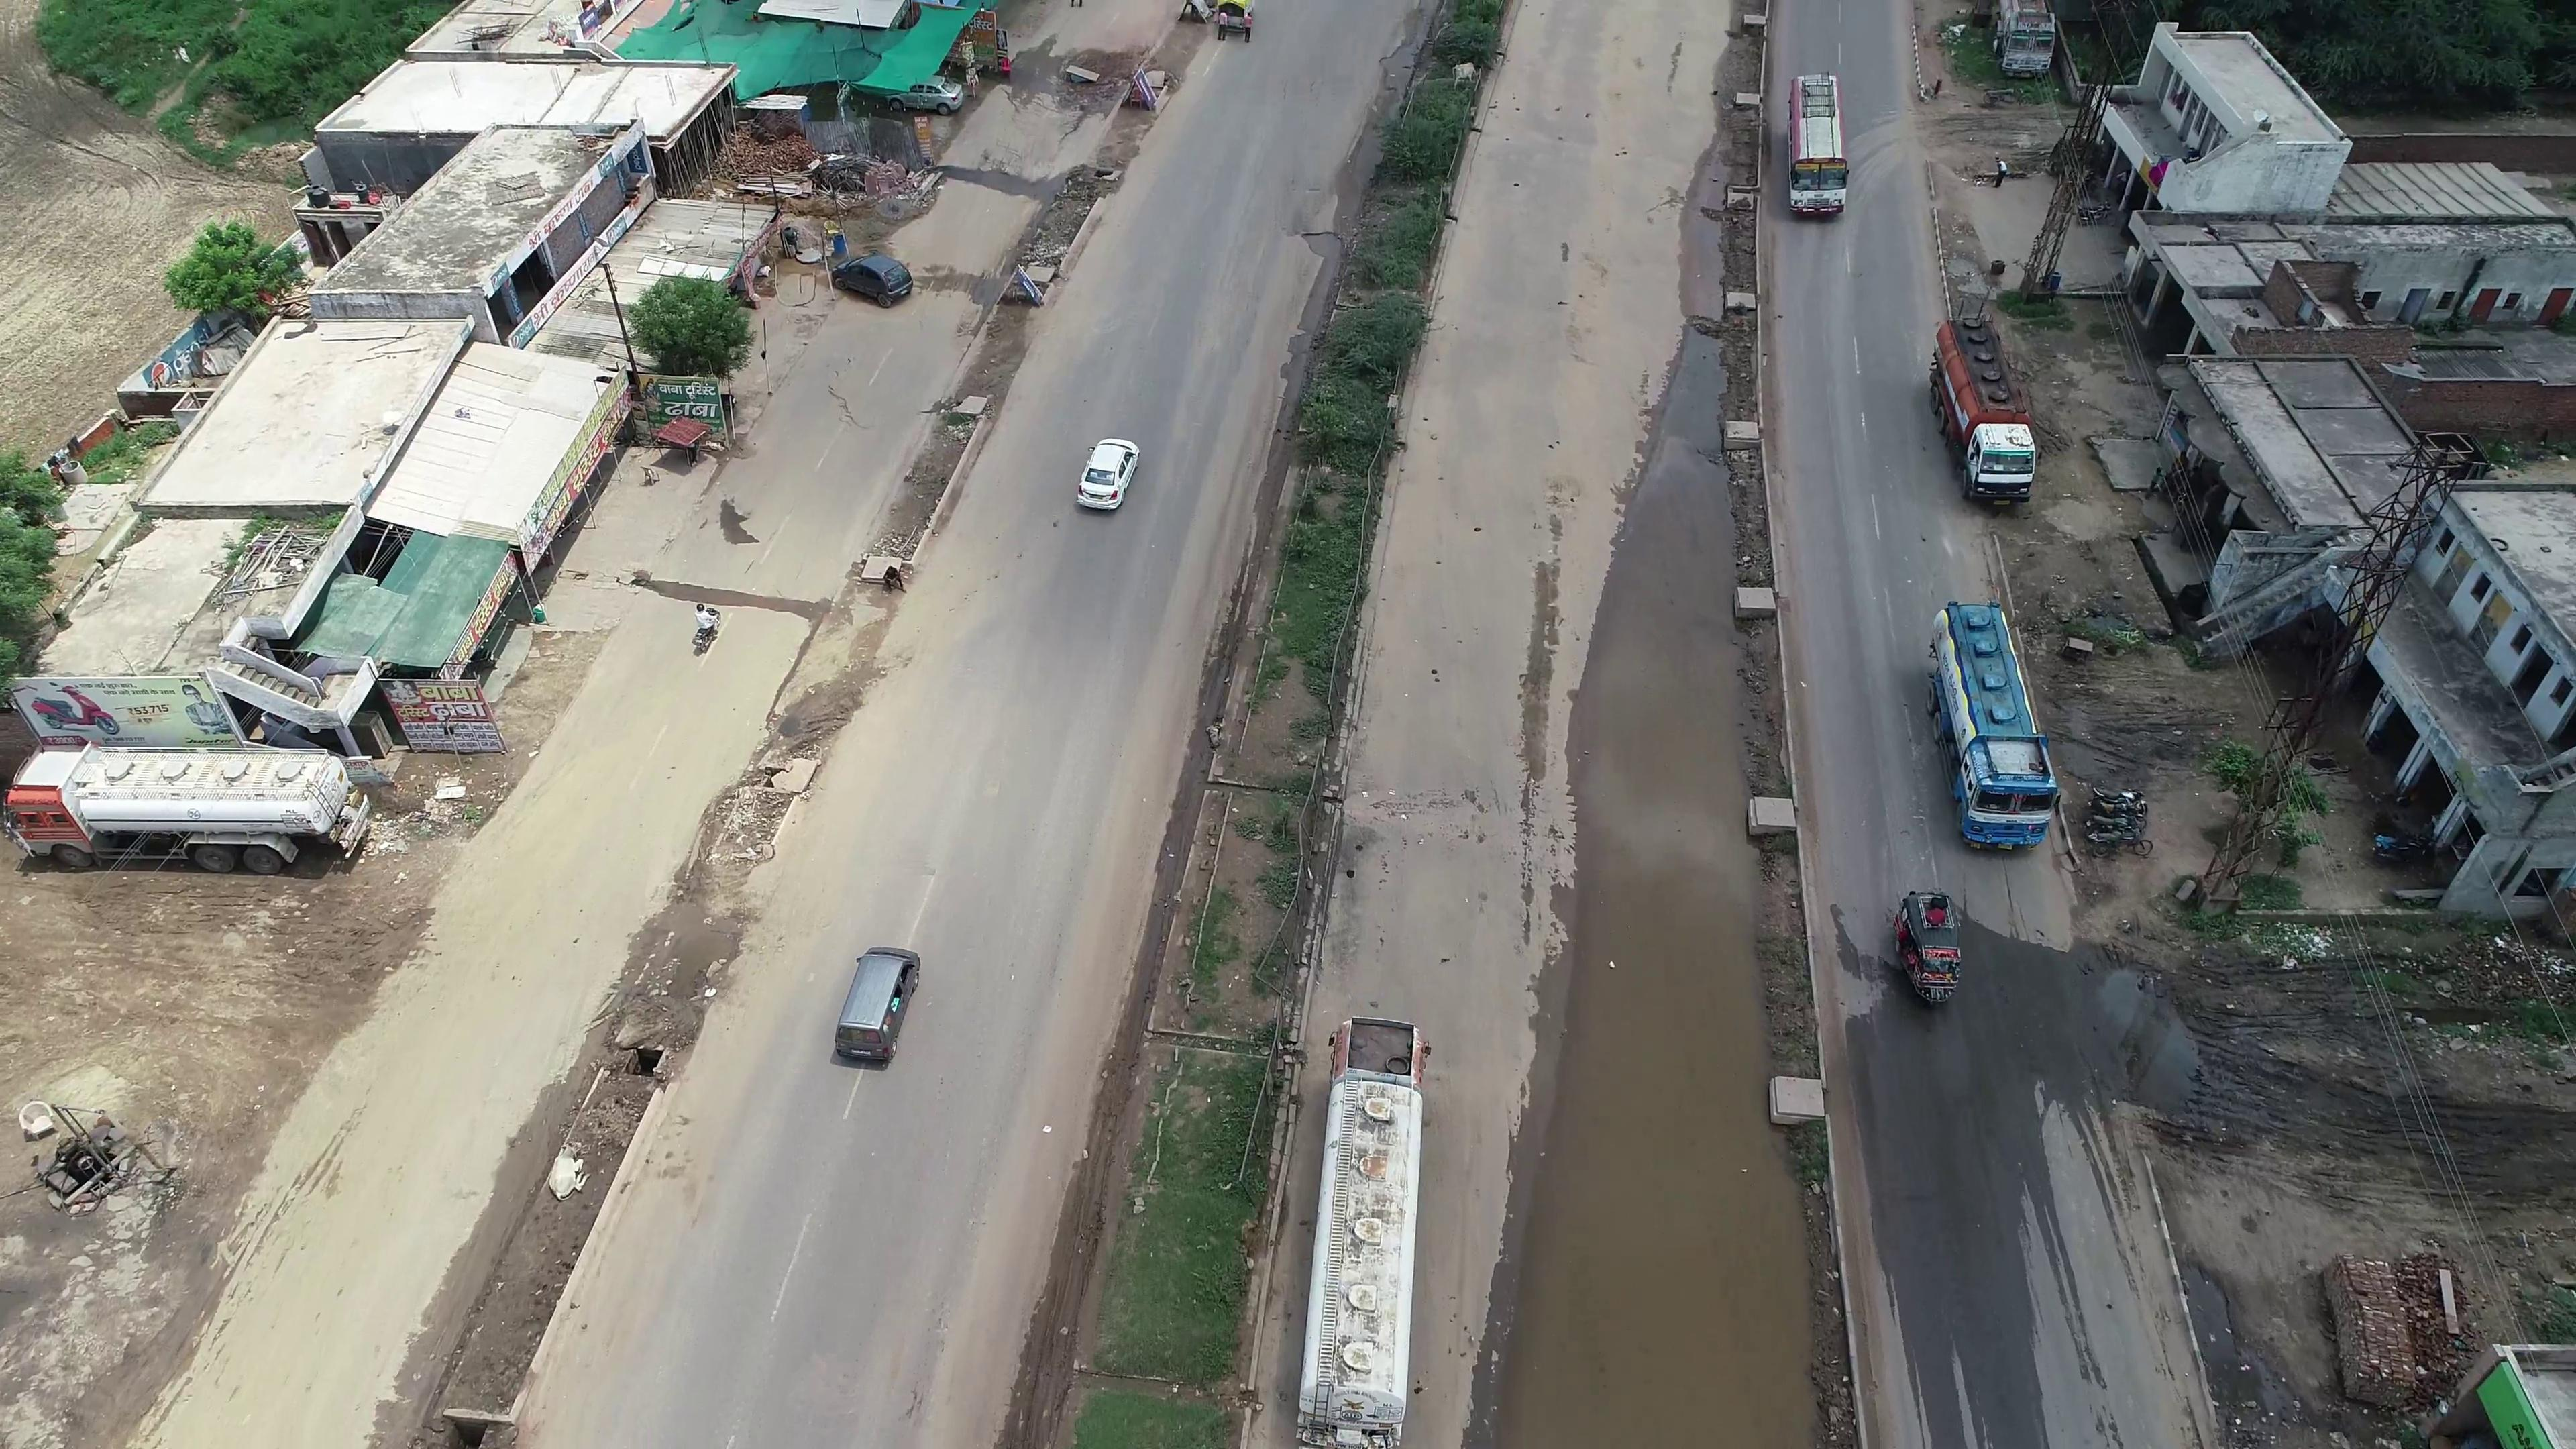Waterlogging: (1499, 918, 1773, 1419), (1543, 451, 1723, 890)
